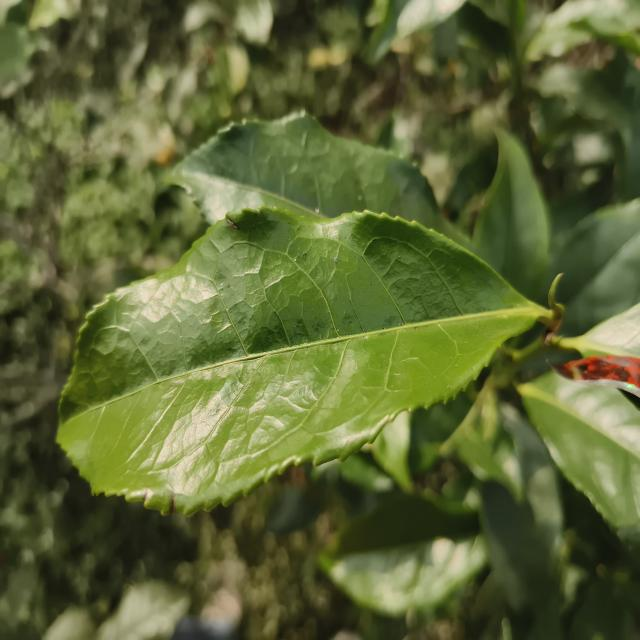Leaf: (58, 207, 550, 514), (170, 112, 468, 248), (319, 494, 488, 616), (517, 373, 640, 529), (473, 129, 550, 299), (548, 199, 640, 335), (96, 581, 190, 640)
